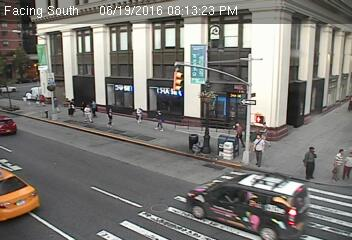neg: (60, 173, 82, 203), (97, 178, 119, 207), (68, 49, 83, 69), (31, 143, 46, 163), (284, 58, 299, 78), (87, 140, 101, 159), (146, 42, 159, 60), (213, 167, 226, 184), (120, 160, 133, 177), (185, 136, 197, 151), (300, 91, 312, 106), (175, 186, 186, 201), (112, 54, 123, 68), (191, 39, 201, 53), (328, 61, 337, 74), (328, 98, 337, 110), (205, 8, 213, 18), (249, 14, 256, 24), (238, 203, 245, 211), (301, 16, 308, 24)
pos: (297, 143, 325, 180), (245, 130, 271, 165), (323, 144, 349, 178), (227, 119, 249, 148), (252, 117, 273, 145), (336, 148, 351, 179), (150, 107, 168, 132), (101, 102, 117, 124), (19, 85, 35, 107), (78, 102, 94, 123), (47, 93, 62, 112), (131, 102, 145, 122), (87, 96, 101, 115), (65, 99, 77, 115)
